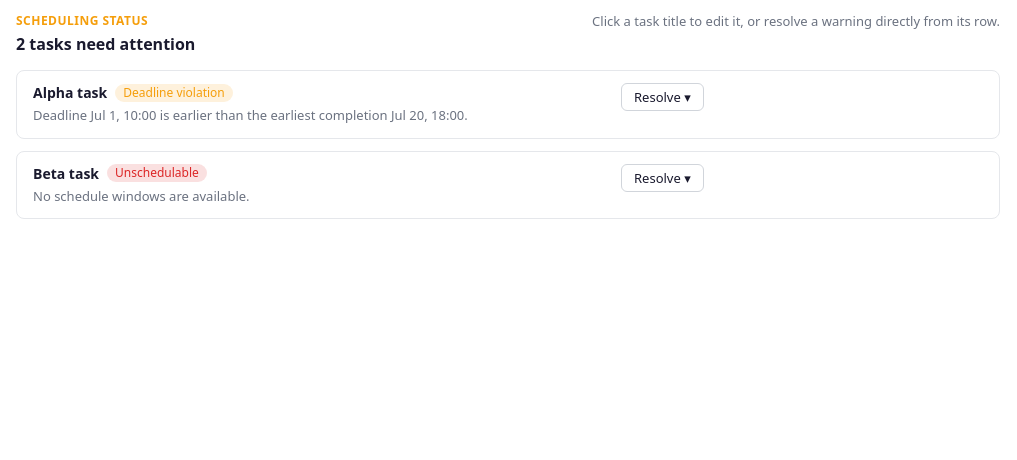
Test case: StatusView — resolution actions › a successful deadline extension refreshes the list and the resolved row disappears
The width and height of the screenshot is (1017, 460).
Click the button with class "resolve-trigger" in the row of "Deadline violation": (662, 97) [621,83,704,111]
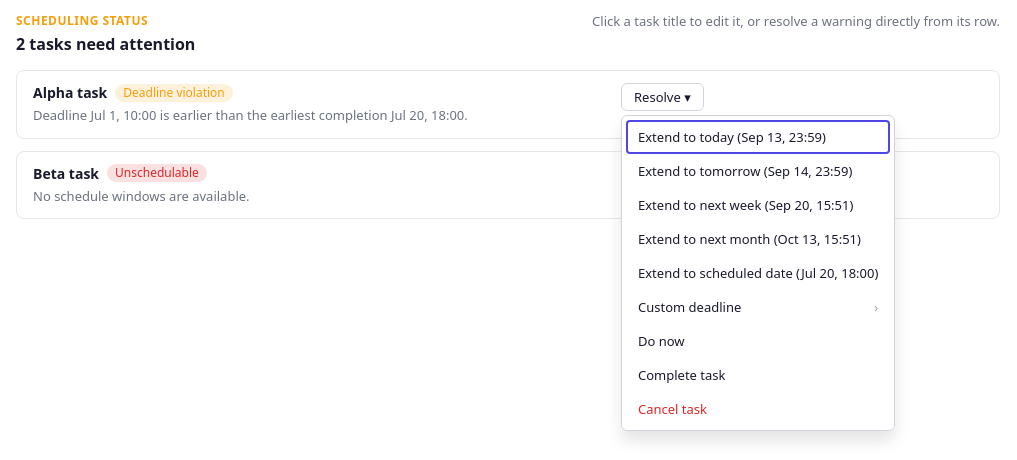
Now the menu item "Extend to next week (Sep 20, 15:51)" is shown
Click the menu item "Extend to next week (Sep 20, 15:51)": (758, 205) [626,188,890,222]
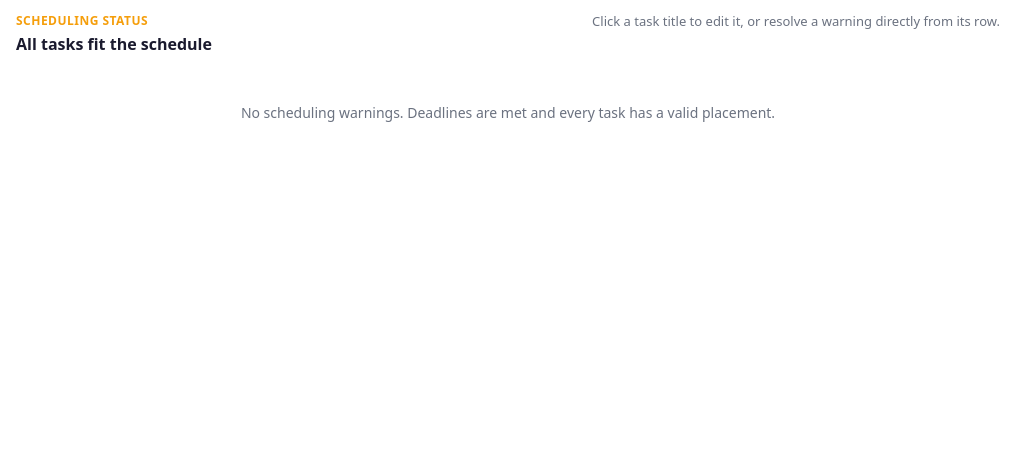
Now the button "Alpha task" is gone
